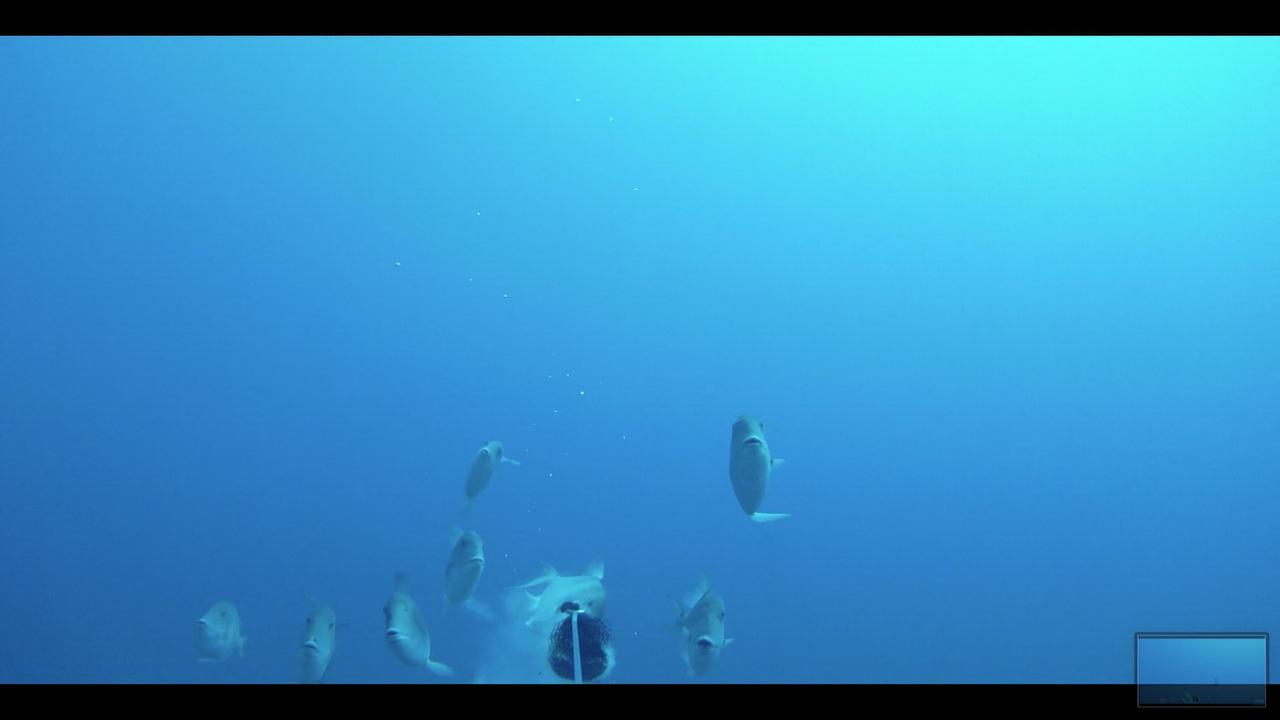balistes: (370, 562, 467, 681), (660, 570, 743, 681), (723, 408, 796, 532), (433, 521, 499, 619), (291, 598, 360, 681), (450, 431, 526, 503), (184, 591, 252, 666)
